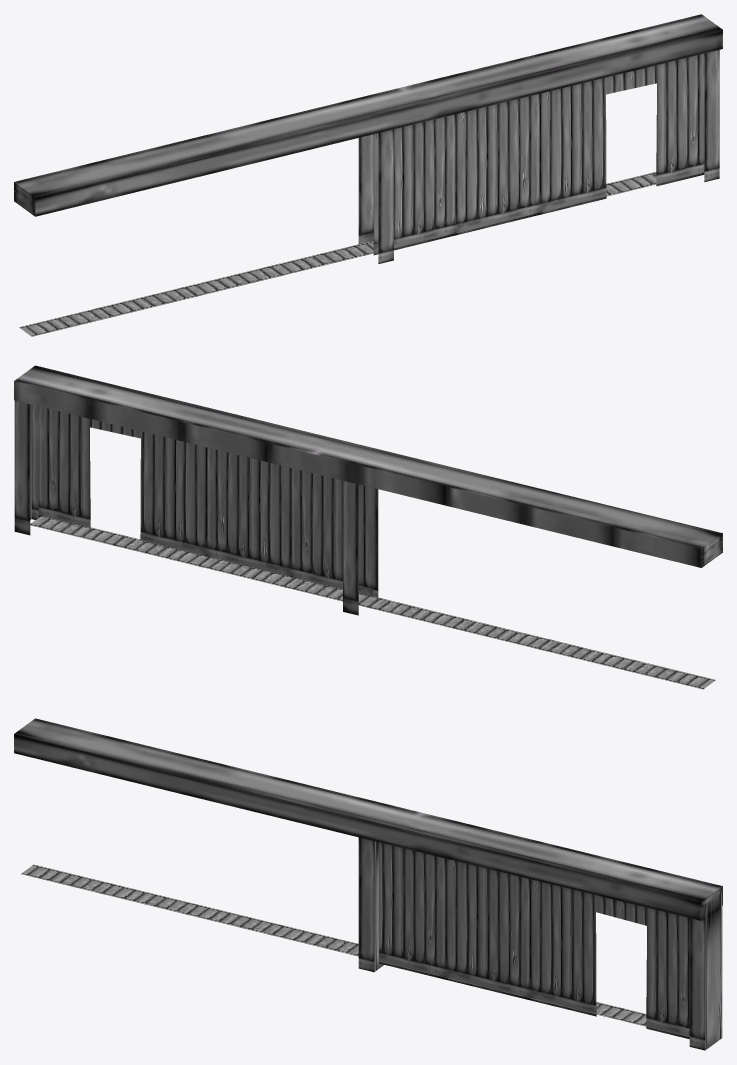
The model's file is lagerhalle_tor_mit_tuer_2738.glb.
3 renders of one model, top to bottom at view 1: azimuth 30°, elevation 25°; view 2: azimuth 150°, elevation 25°; view 3: azimuth 330°, elevation 25°, orthographic.
Visible parts, largest first — view 1: pPlaneShape2, pCubeShape4, pCubeShape2, pCubeShape5, pCubeShape3; view 2: pPlaneShape2, pCubeShape4, pCubeShape2, pCubeShape3, pCubeShape5; view 3: pPlaneShape2, pCubeShape4, pCubeShape2, pCubeShape3, pCubeShape5.
Part boxes in pixels (bbox=[...]): pPlaneShape2: bbox=[373, 53, 704, 255]; pCubeShape4: bbox=[14, 14, 722, 216]; pCubeShape2: bbox=[19, 172, 703, 336]; pCubeShape5: bbox=[358, 129, 393, 263]; pCubeShape3: bbox=[704, 50, 719, 182]; pPlaneShape2: bbox=[39, 406, 373, 596]; pCubeShape4: bbox=[14, 365, 722, 567]; pCubeShape2: bbox=[30, 516, 715, 689]; pCubeShape3: bbox=[14, 400, 38, 535]; pCubeShape5: bbox=[343, 480, 378, 615]; pPlaneShape2: bbox=[379, 842, 689, 1039]; pCubeShape4: bbox=[14, 718, 722, 920]; pCubeShape2: bbox=[21, 864, 689, 1036]; pCubeShape3: bbox=[689, 892, 722, 1050]; pCubeShape5: bbox=[358, 837, 383, 972].
Size of the model in its own units: 2.01 by 0.4221 by 0.1078.
Materials: 5 (5 with a texture image).
